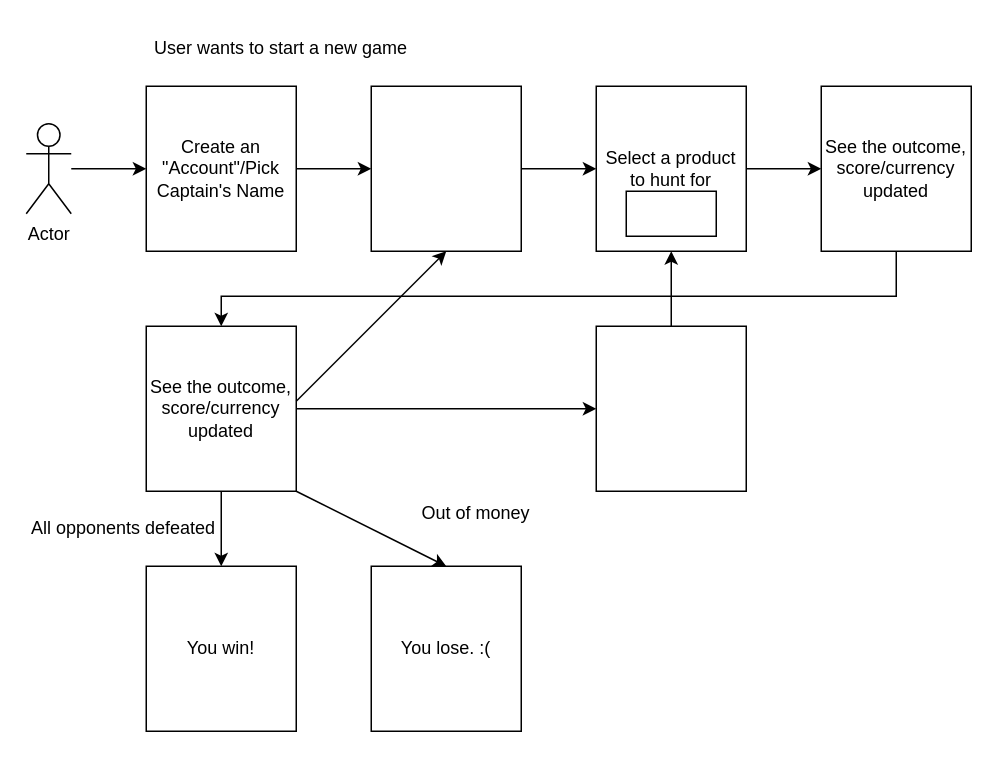
The diagram is 998 pixels wide and 758 high, and some of its shapes have lost their labels. Here are the shapes that lost their labels. From the top down, the box of each, then its label:
(370, 85, 521, 251): Acquire a ship and crew
(625, 190, 716, 236): Products
(595, 325, 746, 491): Rank the crew on their performance
